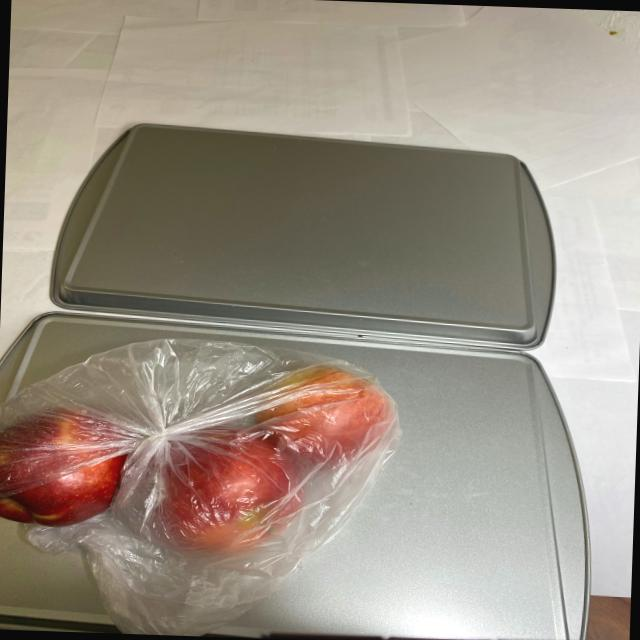apple: (0, 350, 400, 583)
